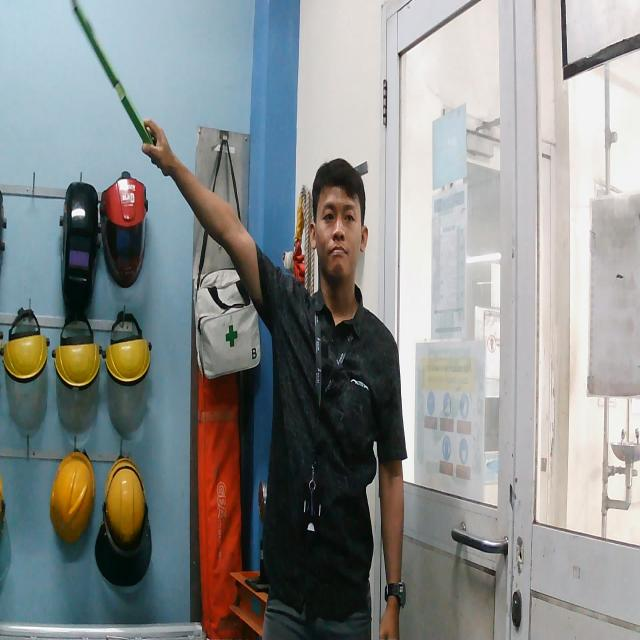water_pass: (67, 0, 162, 165)
